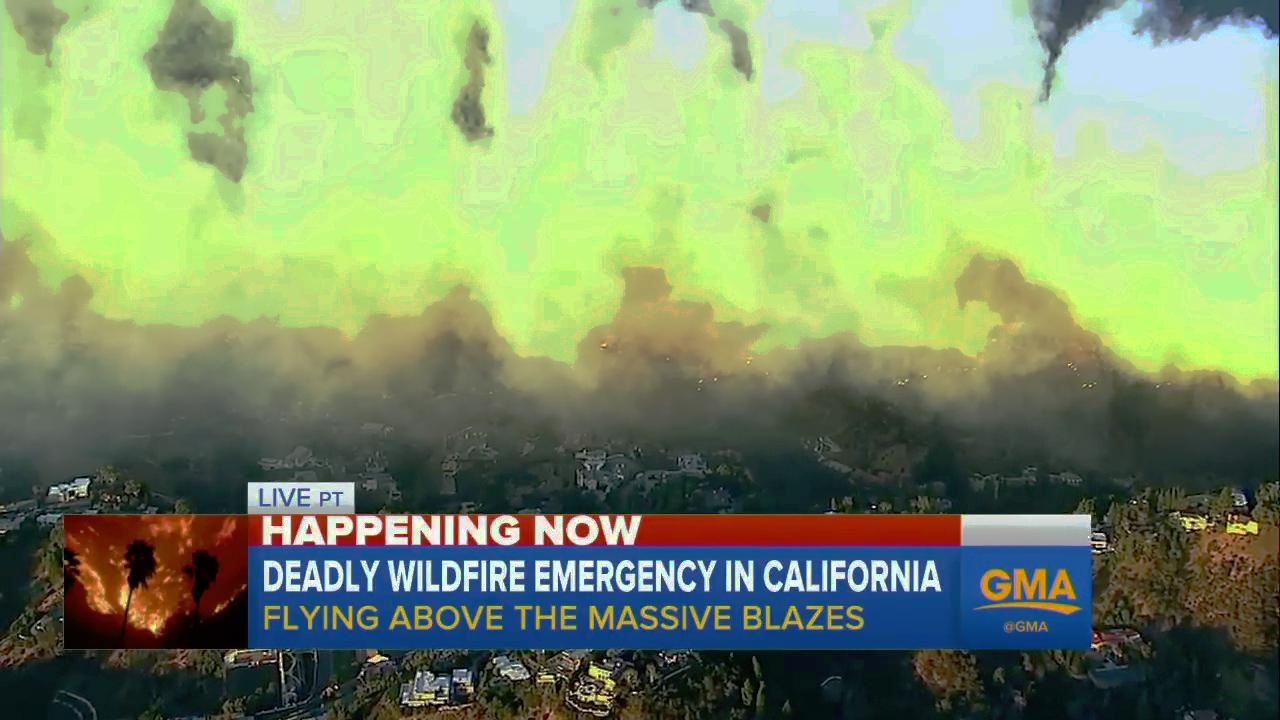smoke: (0, 2, 1276, 421), (0, 3, 603, 416), (615, 0, 912, 410), (921, 74, 1183, 398)
